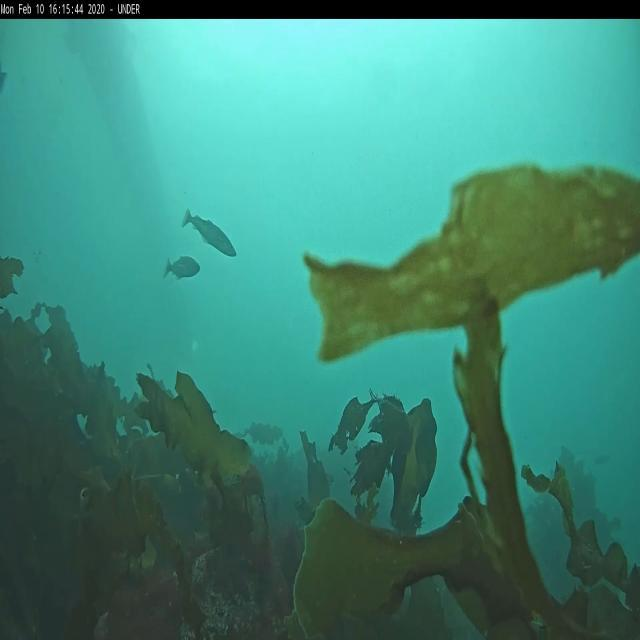fish: (181, 207, 237, 257), (163, 254, 200, 280)
